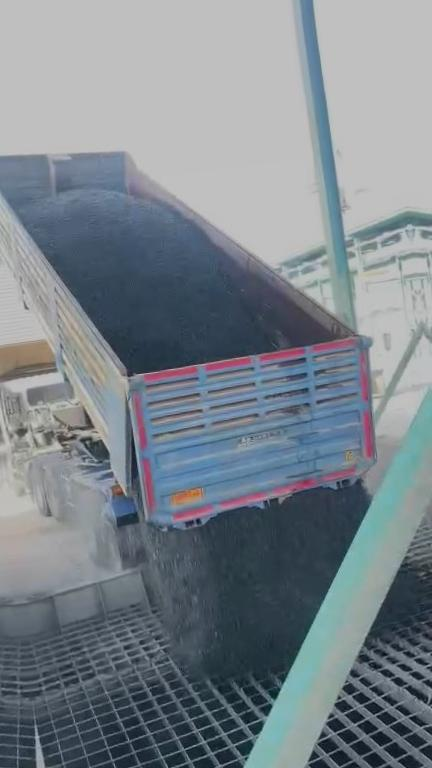gravel: (23, 190, 272, 373), (141, 482, 369, 675), (378, 572, 423, 625)
